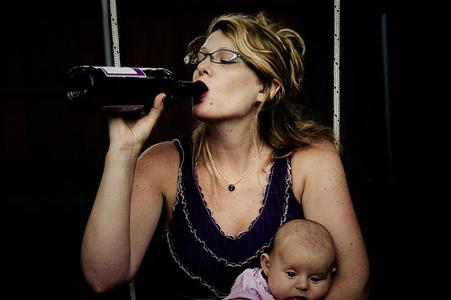person: (66, 15, 371, 300)
